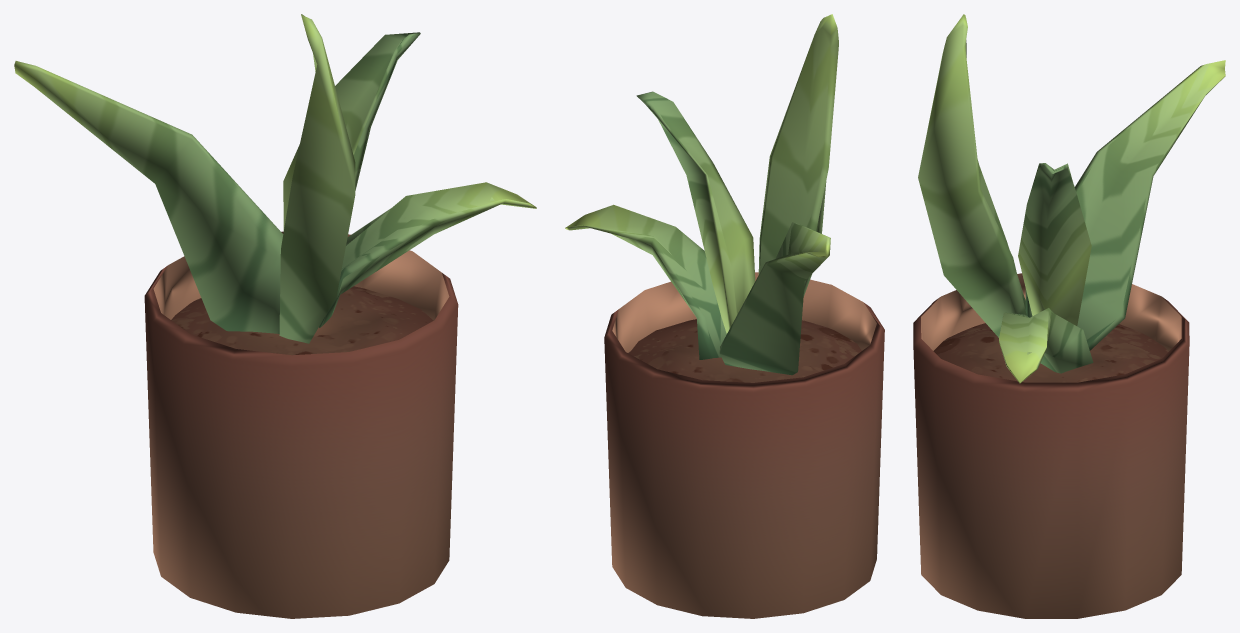
File: mesh_deskplant_LOD1.fbx
The picture shows the model from 3 angles, left to right: view 1: azimuth 30°, elevation 25°; view 2: azimuth 150°, elevation 25°; view 3: azimuth 270°, elevation 25°; orthographic projection. The views are drawn at different scales.
Visible parts, largest first — view 1: plant.001; view 2: plant.001; view 3: plant.001.
Part boxes in pixels (left/top/right/bottom): plant.001: left=14, top=14, right=536, bottom=618; plant.001: left=565, top=14, right=884, bottom=618; plant.001: left=913, top=14, right=1225, bottom=618.
Size of the model in its own units: 46.31 by 63.89 by 34.24.
